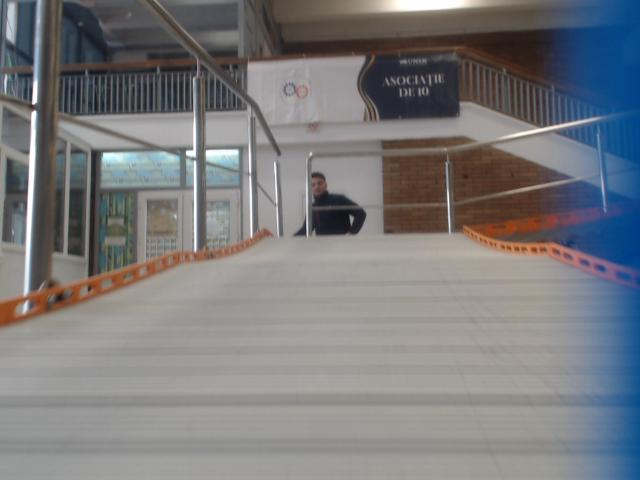rampUp: (0, 234, 639, 479)
ramps-railing: (306, 111, 639, 233), (136, 0, 291, 233), (306, 154, 404, 230), (62, 114, 178, 153), (194, 80, 205, 247), (457, 185, 542, 204), (206, 150, 250, 175), (256, 177, 279, 216), (542, 176, 594, 188), (186, 155, 194, 161)
